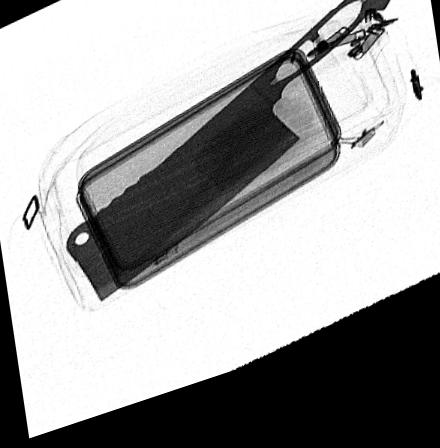Knife: (66, 1, 394, 310)
